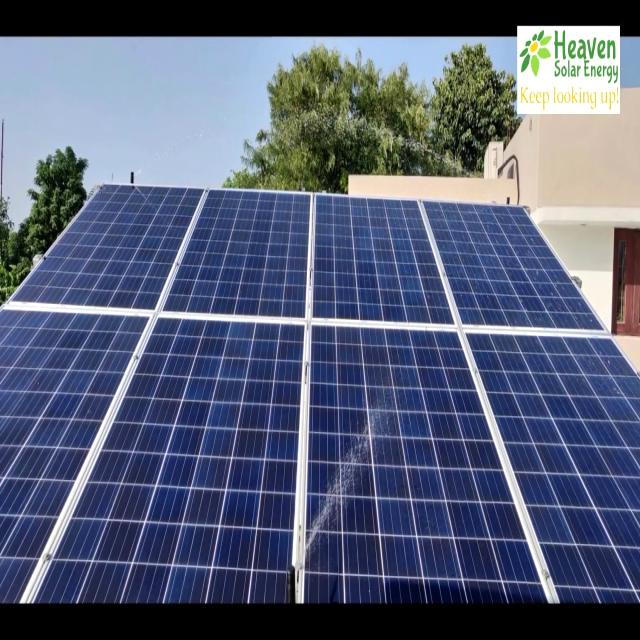crack: (300, 326, 540, 622), (462, 329, 640, 640), (125, 318, 318, 552), (176, 178, 331, 386), (48, 176, 196, 306)
